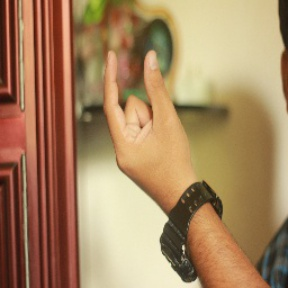U: (85, 42, 185, 176)
